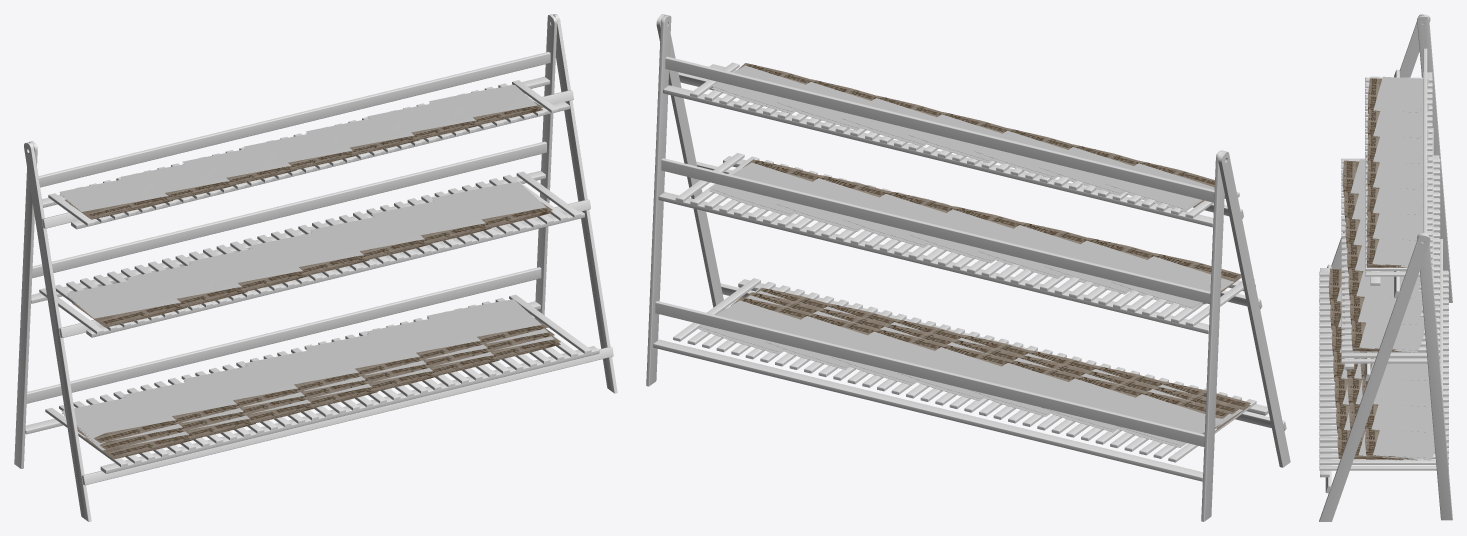
File: NewspaperStand.fbx
3 views of the same model, side by side, from view 1: azimuth 30°, elevation 25°; view 2: azimuth 150°, elevation 25°; view 3: azimuth 270°, elevation 25° (orthographic). The views are drawn at different scales.
Visible parts, largest first — view 1: Newspaper, NewsPaperStand; view 2: NewsPaperStand, Newspaper; view 3: Newspaper, NewsPaperStand.
Boxes of the visible parts, box(x1,y1,x2,y2) form: Newspaper: box(59, 85, 560, 459); NewsPaperStand: box(14, 14, 617, 521); NewsPaperStand: box(646, 14, 1290, 521); Newspaper: box(697, 63, 1250, 447); Newspaper: box(1328, 76, 1434, 460); NewsPaperStand: box(1319, 14, 1452, 521).
Size of the model in its own units: 199 by 120 by 50.71.
